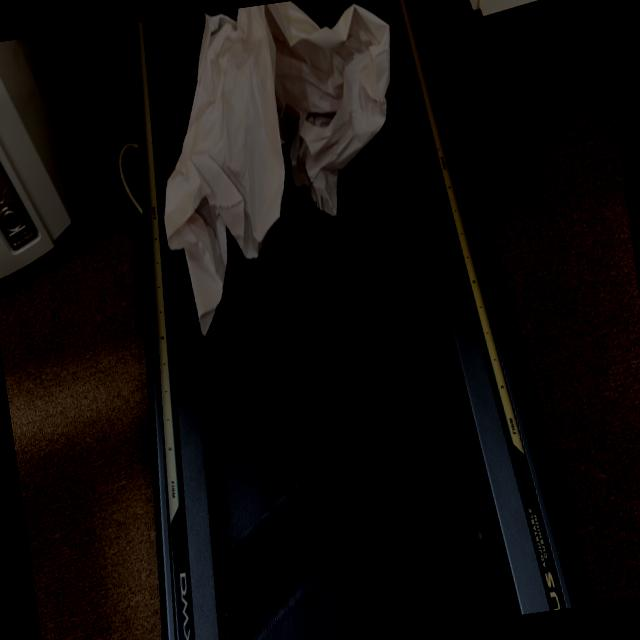Recycle: (135, 0, 430, 343)
